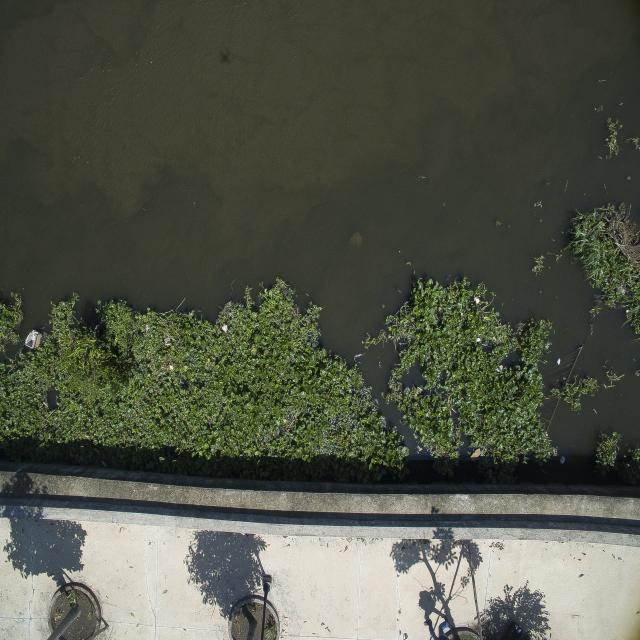plastic: (22, 323, 44, 356), (468, 288, 484, 311), (218, 318, 234, 339), (554, 354, 568, 370), (476, 330, 484, 351)
